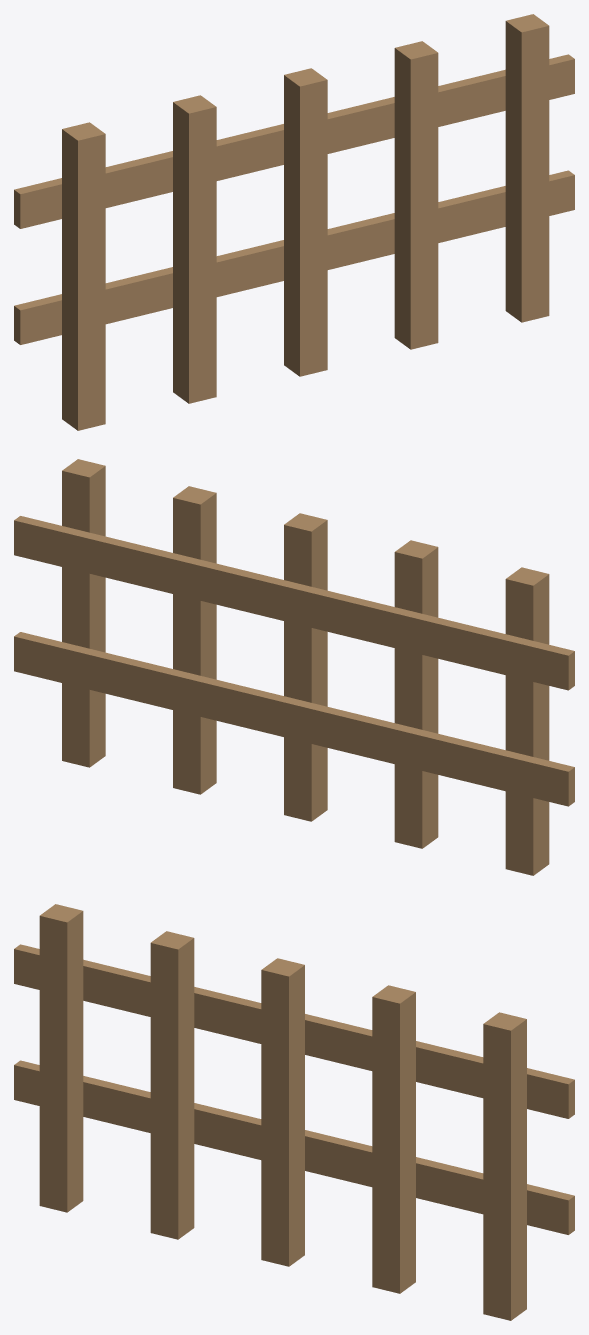
File: fence.glb
3 renders of one model, top to bottom at view 1: azimuth 30°, elevation 25°; view 2: azimuth 150°, elevation 25°; view 3: azimuth 330°, elevation 25°, orthographic.
Visible parts, largest first — view 1: Fence; view 2: Fence; view 3: Fence.
Boxes of the visible parts, bbox=[...] form: Fence: bbox=[14, 14, 574, 430]; Fence: bbox=[14, 459, 574, 875]; Fence: bbox=[14, 904, 574, 1320].
Bounding box in the file's own units: 2 × 1 × 0.14.
